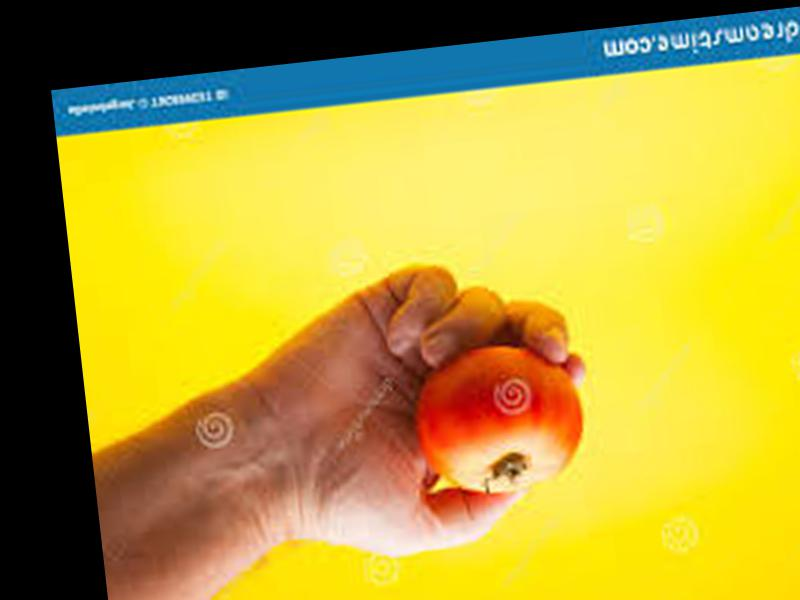Tomato: (409, 338, 588, 499)
